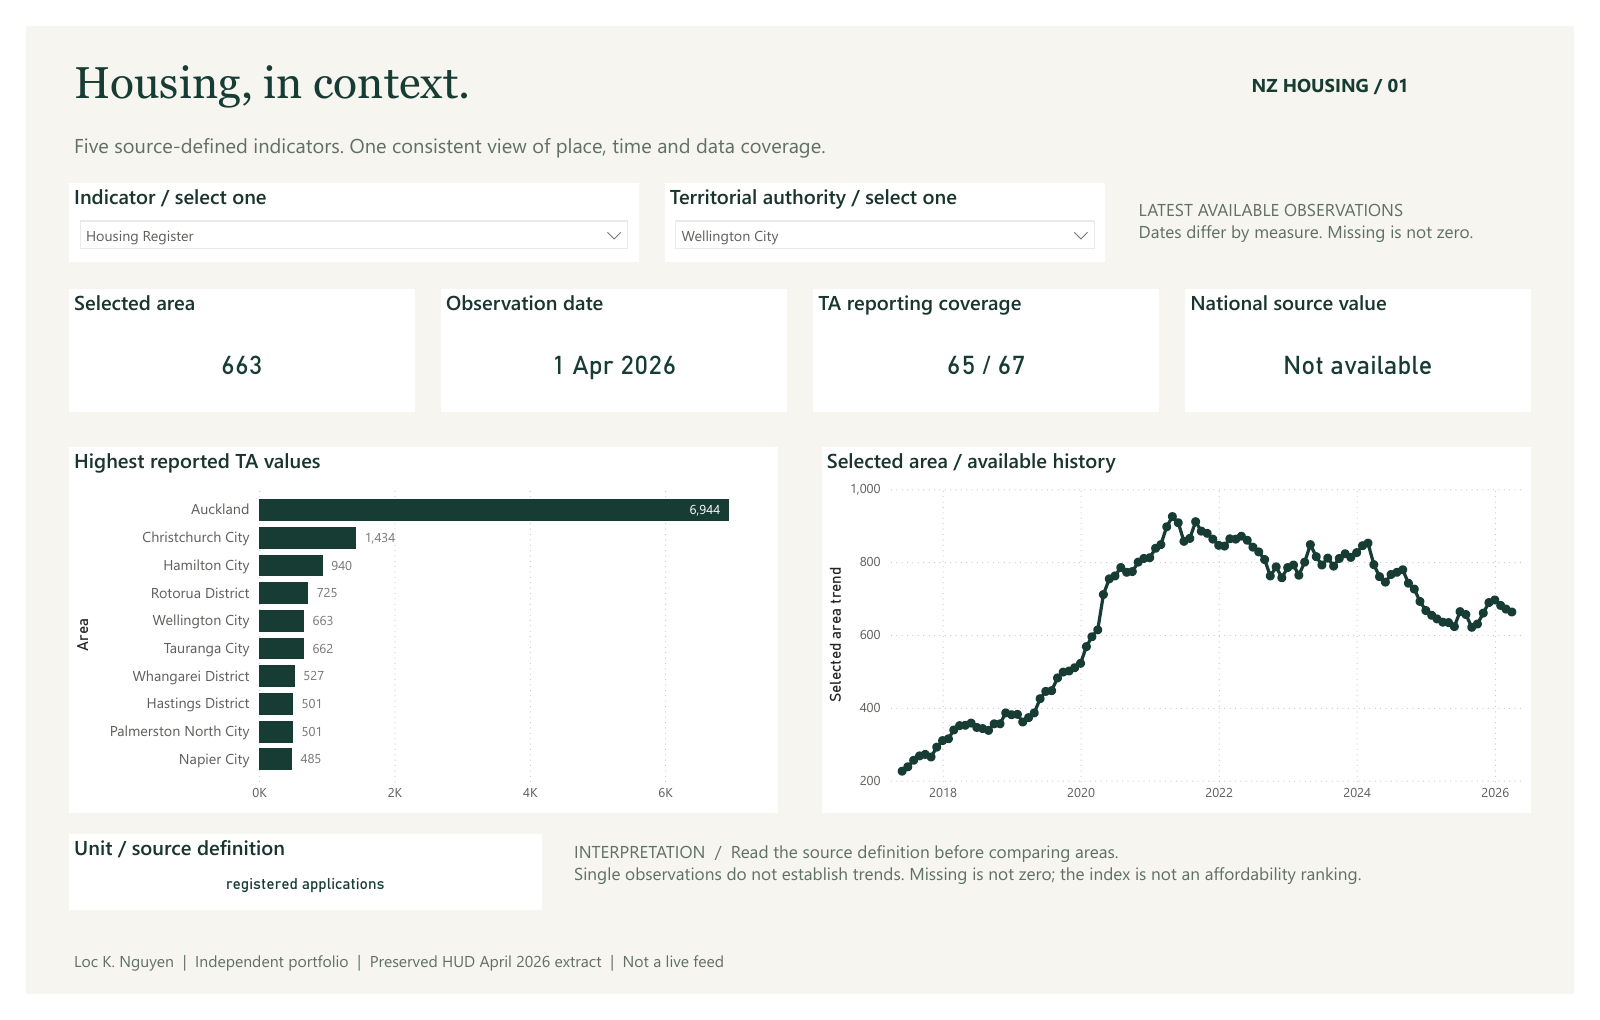

This screenshot's page, from the dashboard's own definition file:
{"tool":"powerbi","page":{"name":"Housing, in context.","canvas":[1440,900],"ordinal":0},"visuals":[{"type":"textbox","box":[40,25,1090,62],"z":25},{"type":"textbox","box":[1135,38,265,34],"z":38},{"type":"textbox","box":[40,94,1300,38],"z":94},{"type":"slicer","title":"Indicator / select one","fields":{"Values":["Indicator.Metric"]},"box":[40,146,530,74],"z":146},{"type":"slicer","title":"Territorial authority / select one","fields":{"Values":["Area picker.Area"]},"box":[594,146,410,74],"z":146},{"type":"textbox","box":[1030,155,370,64],"z":155},{"type":"card","title":"Selected area","fields":{"Values":["Indicator.Selected area display"]},"box":[40,245,322,114],"z":245},{"type":"card","title":"Observation date","fields":{"Values":["Indicator.Observation date"]},"box":[386,245,322,114],"z":245},{"type":"card","title":"TA reporting coverage","fields":{"Values":["Indicator.Coverage display"]},"box":[732,245,322,114],"z":245},{"type":"card","title":"National source value","fields":{"Values":["Indicator.National display"]},"box":[1078,245,322,114],"z":245},{"type":"clusteredBarChart","title":"Highest reported TA values","fields":{"Category":["Area.Area"],"Y":["Indicator.Top ten value"]},"box":[40,392,660,340],"z":392},{"type":"lineChart","title":"Selected area / available history","fields":{"Category":["Date.Date"],"Y":["Indicator.Selected area trend"]},"box":[740,392,660,340],"z":392},{"type":"card","title":"Unit / source definition","fields":{"Values":["Indicator.Unit label"]},"box":[40,752,440,70],"z":752},{"type":"textbox","box":[505,752,895,75],"z":752},{"type":"textbox","box":[40,855,1350,30],"z":855}]}

Visuals, with their boxes in screenshot pixels (x1, y1, x2, y2), scaled from the page's 1440x900 canvas onto the 1600x1020 screenshot:
textbox: [44,28,1256,99]
textbox: [1261,43,1556,82]
textbox: [44,107,1489,150]
"Indicator / select one" slicer: [44,165,633,249]
"Territorial authority / select one" slicer: [660,165,1116,249]
textbox: [1144,176,1556,248]
"Selected area" card: [44,278,402,407]
"Observation date" card: [429,278,787,407]
"TA reporting coverage" card: [813,278,1171,407]
"National source value" card: [1198,278,1556,407]
"Highest reported TA values" clusteredBarChart: [44,444,778,830]
"Selected area / available history" lineChart: [822,444,1556,830]
"Unit / source definition" card: [44,852,533,932]
textbox: [561,852,1556,937]
textbox: [44,969,1544,1003]
